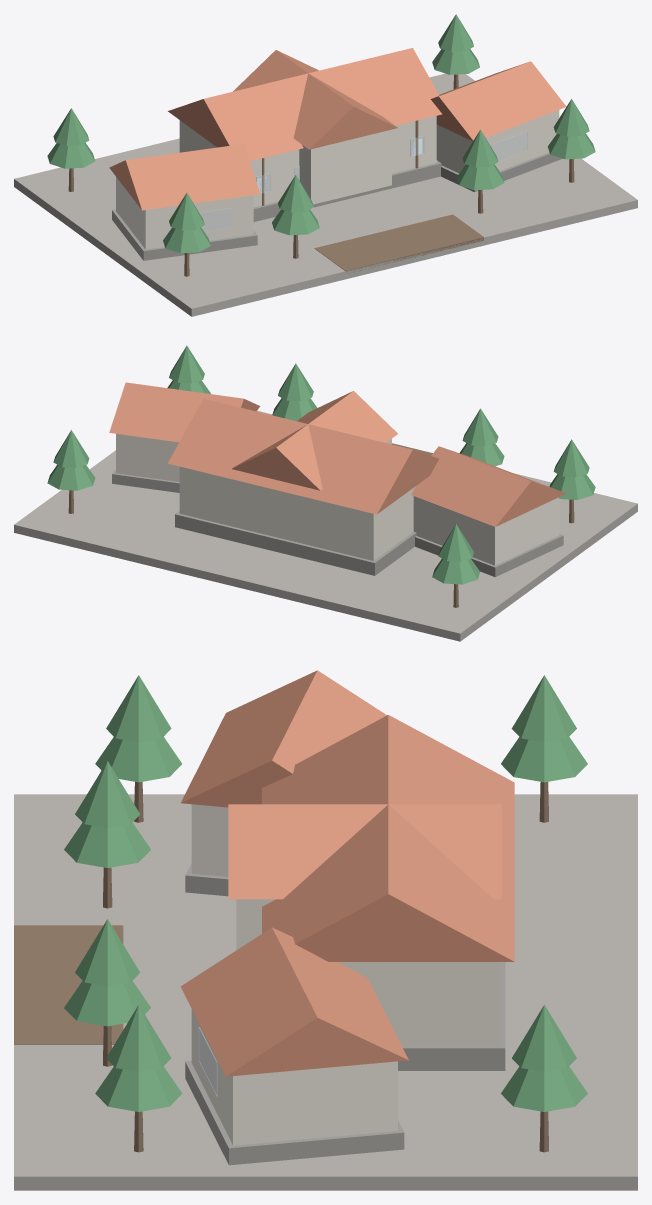
The model's file is lm_48_dalat_edensee_and_terracotta_tuyen_lam_resort_kit.glb.
3 views of the same model, one above another, from view 1: azimuth 30°, elevation 25°; view 2: azimuth 150°, elevation 25°; view 3: azimuth 270°, elevation 25° (orthographic). The views are drawn at different scales.
Parts seen in each view (by area): view 1: lm_48_dalat_edensee_and_terracotta_tuyen_lam_resort_kit; view 2: lm_48_dalat_edensee_and_terracotta_tuyen_lam_resort_kit; view 3: lm_48_dalat_edensee_and_terracotta_tuyen_lam_resort_kit.
Part boxes in pixels (x1,y1,x2,y2): lm_48_dalat_edensee_and_terracotta_tuyen_lam_resort_kit: [14, 14, 637, 316]; lm_48_dalat_edensee_and_terracotta_tuyen_lam_resort_kit: [14, 345, 637, 641]; lm_48_dalat_edensee_and_terracotta_tuyen_lam_resort_kit: [14, 670, 637, 1190].
Size of the model in its own units: 58 by 13.8 by 40.
